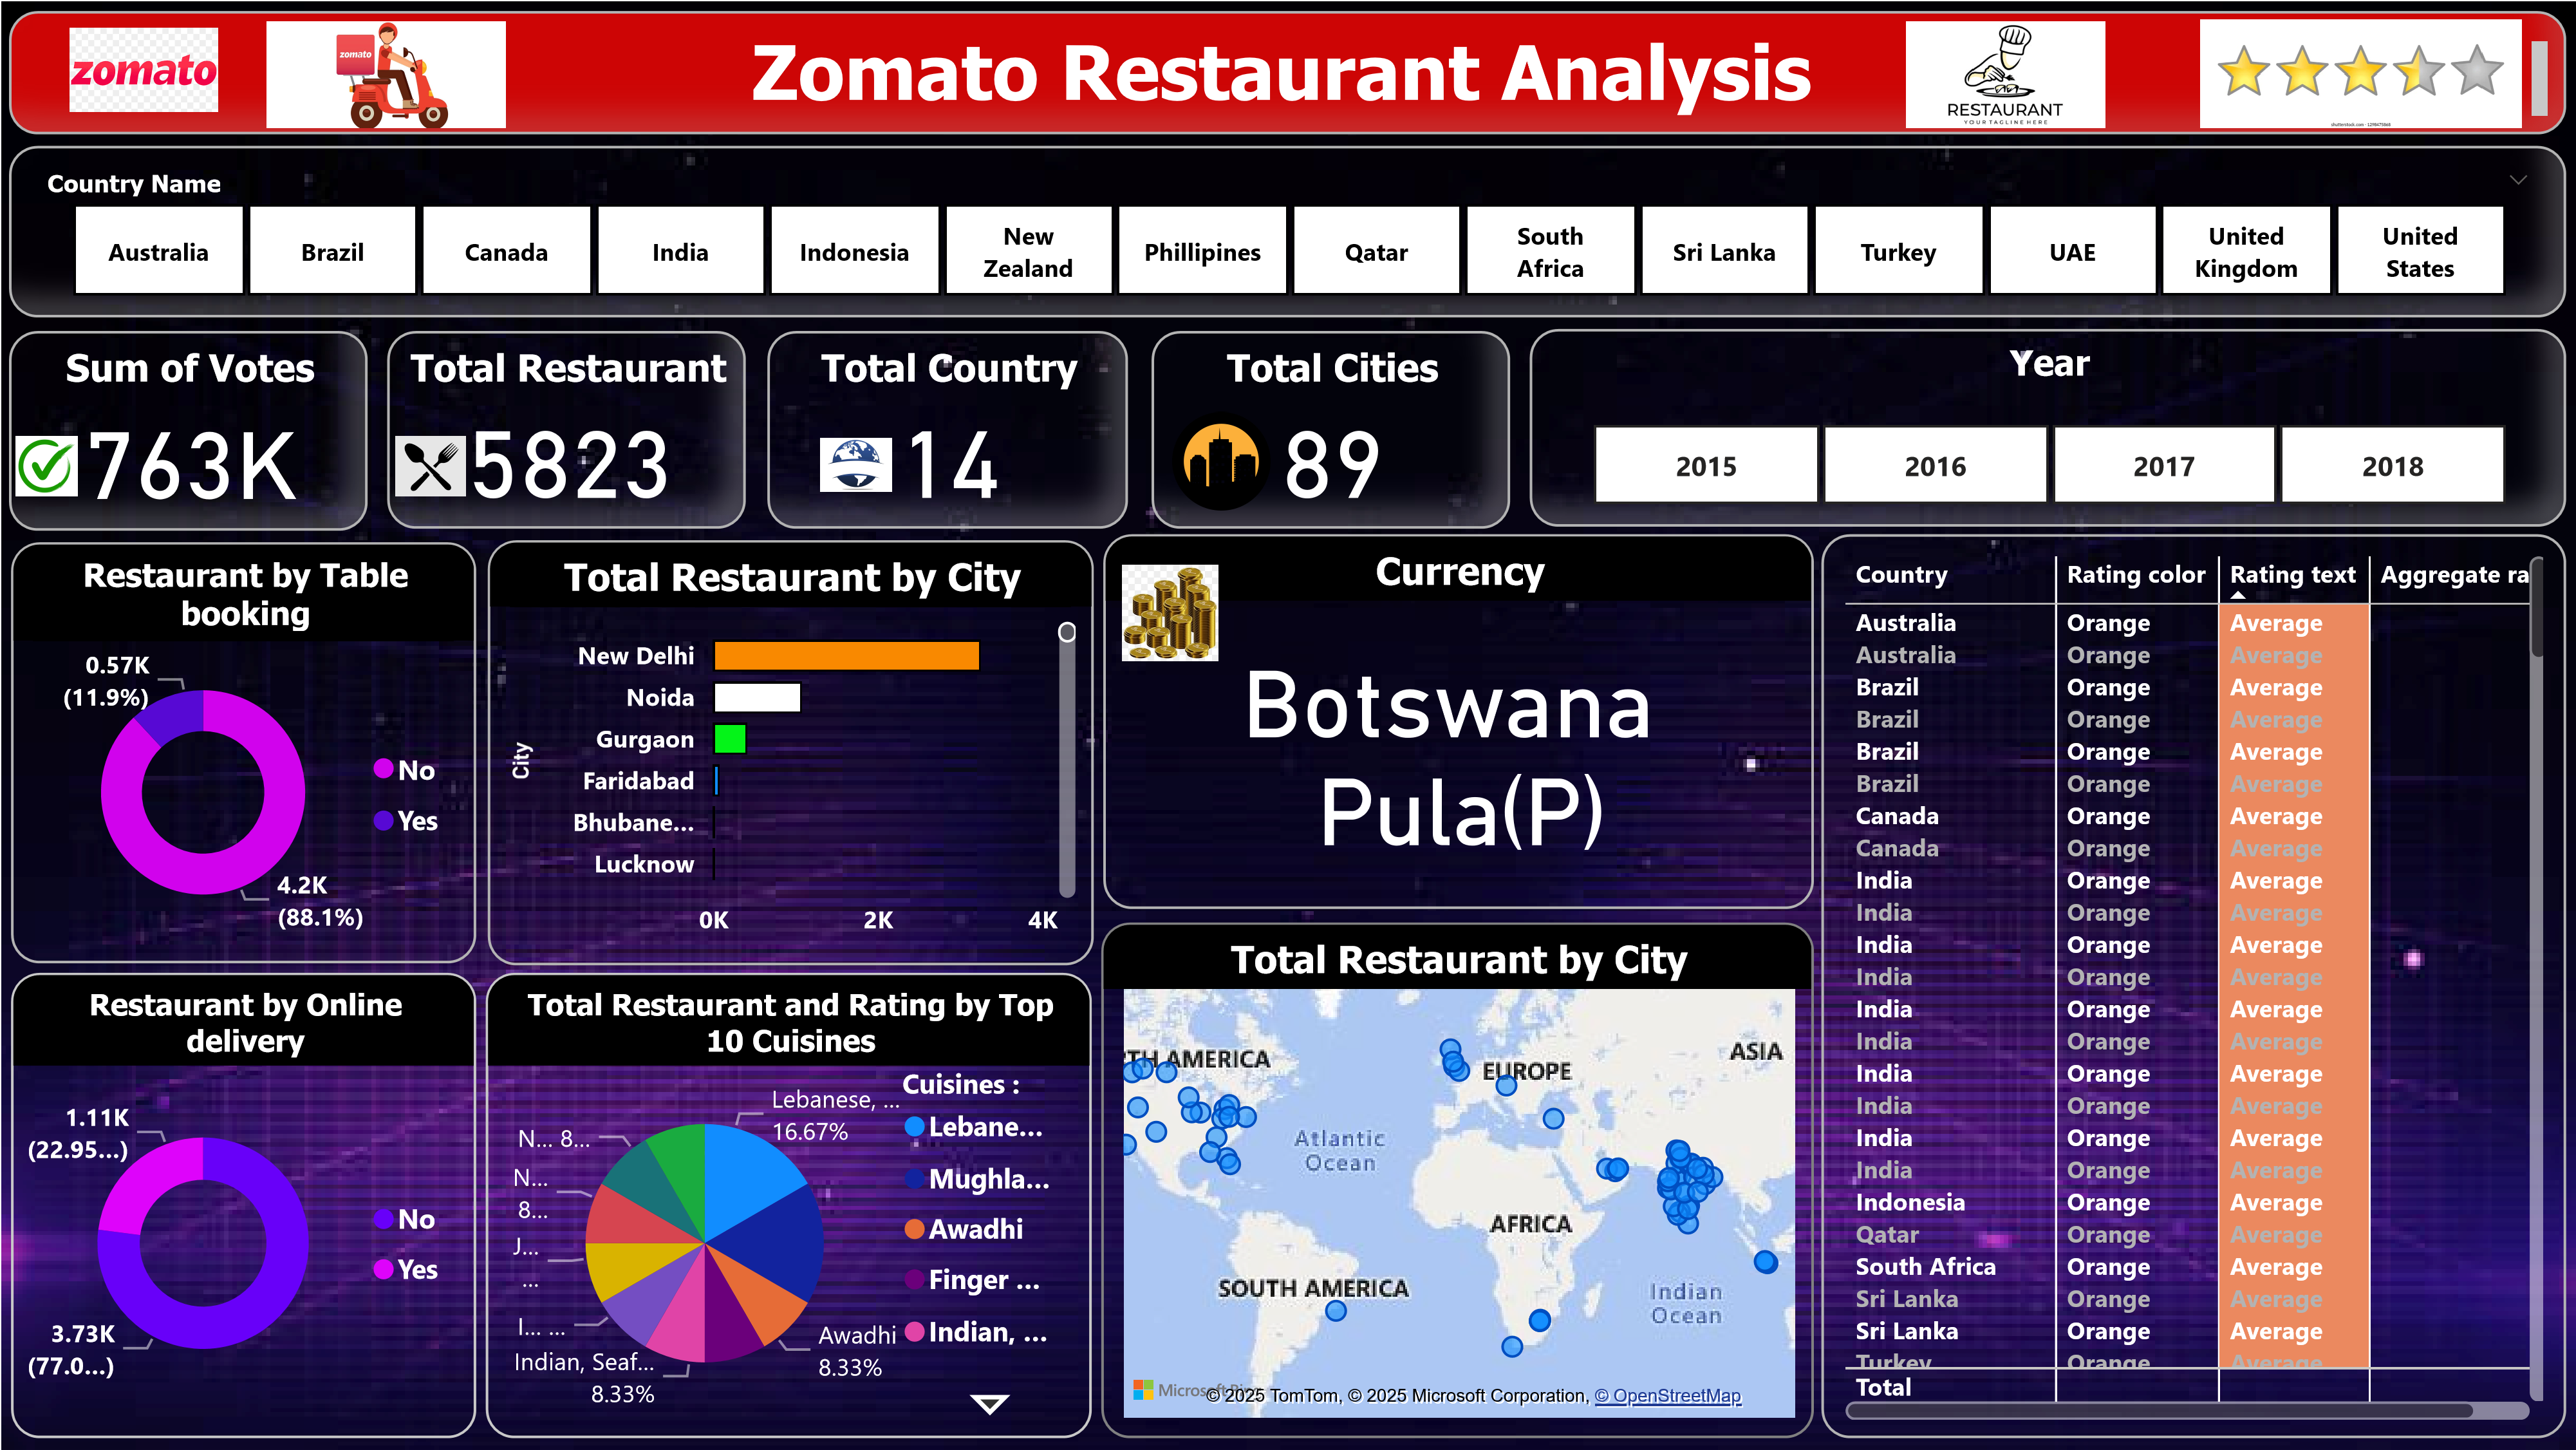

The dashboard page shown, as its layout file describes it:
{"tool":"powerbi","page":{"name":"Zomato Analysis","canvas":[1280,720],"ordinal":0},"visuals":[{"type":"card","title":"Sum of Votes","fields":{"Values":["Sum(zomato.Votes)"]},"box":[3.6,163.6,178.6,98.9],"z":0},{"type":"card","title":"Total Restaurant","fields":{"Values":["CountNonNull(zomato.Restaurant ID)"]},"box":[191.8,164.2,178.6,97.7],"z":1000},{"type":"card","title":"Total Country","fields":{"Values":["Count(zomato.Country)"]},"box":[381.2,164.2,178.6,97.7],"z":2000},{"type":"card","title":"Total Cities","fields":{"Values":["Count(zomato.City)"]},"box":[571.9,164.2,178.6,97.7],"z":3000},{"type":"slicer","title":"Year","fields":{"Values":["zomato.Year"]},"box":[760.1,162.9,515.2,97.7],"z":4000},{"type":"clusteredBarChart","title":"Total  Restaurant by City","fields":{"Category":["zomato.City"],"Y":["CountNonNull(zomato.Restaurant ID)"]},"box":[242.5,267.8,300.4,211.1],"z":5000},{"type":"tableEx","fields":{"Values":["zomato.Country","zomato.Rating color","zomato.Rating text","zomato.Aggregate rating"]},"box":[904.8,265.4,370.4,448.8],"z":6000},{"type":"donutChart","title":"Restaurant  by Table booking","fields":{"Category":["zomato.Has Table booking"],"Y":["Count(zomato.Restaurant Name)"]},"box":[4.8,269,231.6,208.7],"z":7000},{"type":"donutChart","title":"Restaurant  by Online delivery","fields":{"Category":["zomato.Has Online delivery"],"Y":["Count(zomato.Restaurant Name)"]},"box":[4.8,482.6,231.6,231.6],"z":8000},{"type":"slicer","fields":{"Values":["zomato.Country"]},"box":[3.6,72.4,1271.6,84.5],"z":9000},{"type":"pieChart","title":"Total Restaurant and Rating by Top 10  Cuisines","fields":{"Y":["CountNonNull(zomato.Restaurant Name)"],"Category":["zomato.Cuisines"]},"box":[241.3,482.6,300.4,231.6],"z":10000},{"type":"textbox","box":[3.6,4.8,1271.6,61.5],"z":11000},{"type":"map","title":"Total Restaurant by City","fields":{"Category":["zomato.City"]},"box":[546.5,458.4,354.7,255.8],"z":12000},{"type":"image","box":[7.2,8.4,126.7,51.9],"z":13000},{"type":"image","box":[126.7,4.8,129.1,62.7],"z":14000},{"type":"image","box":[2.4,211.1,41,39.8],"z":15000},{"type":"image","box":[401.7,212.3,45.8,36.2],"z":16000},{"type":"image","box":[576.7,191.8,59.1,73.6],"z":17000},{"type":"image","box":[942.2,4.8,108.6,62.7],"z":18000},{"type":"image","box":[190.6,211.1,45.8,39.8],"z":19000},{"type":"card","title":"Currency","fields":{"Values":["Min(zomato.Currency)"]},"box":[547.7,265.4,353.5,185.8],"z":20000},{"type":"image","box":[542.9,275.1,74.8,57.9],"z":21000},{"type":"image","box":[1066.5,3.6,213.5,63.9],"z":22000}]}

Visuals, with their boxes in screenshot pixels (x1, y1, x2, y2), scaled from the page's 1280x720 canvas onto the 2576x1450 screenshot:
"Sum of Votes" card: <box>7,330,367,529</box>
"Total Restaurant" card: <box>386,331,745,527</box>
"Total Country" card: <box>767,331,1126,527</box>
"Total Cities" card: <box>1151,331,1510,527</box>
"Year" slicer: <box>1530,328,2566,525</box>
"Total  Restaurant by City" clusteredBarChart: <box>488,540,1092,965</box>
tableEx - zomato.Country x zomato.Rating color: <box>1821,534,2566,1438</box>
"Restaurant  by Table booking" donutChart: <box>10,541,476,962</box>
"Restaurant  by Online delivery" donutChart: <box>10,972,476,1438</box>
slicer - zomato.Country: <box>7,146,2566,316</box>
"Total Restaurant and Rating by Top 10  Cuisines" pieChart: <box>485,972,1090,1438</box>
textbox: <box>7,10,2566,133</box>
"Total Restaurant by City" map: <box>1100,923,1814,1438</box>
image: <box>15,17,270,122</box>
image: <box>255,10,515,136</box>
image: <box>5,425,88,505</box>
image: <box>808,428,901,500</box>
image: <box>1161,386,1280,534</box>
image: <box>1896,10,2114,136</box>
image: <box>384,425,476,505</box>
"Currency" card: <box>1102,534,1814,909</box>
image: <box>1092,554,1243,671</box>
image: <box>2146,7,2575,136</box>
